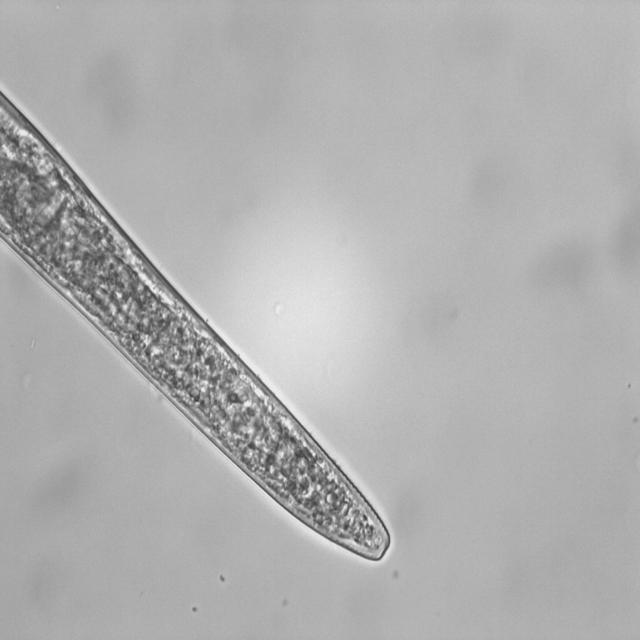Pratylenchus: (0, 76, 406, 572)
